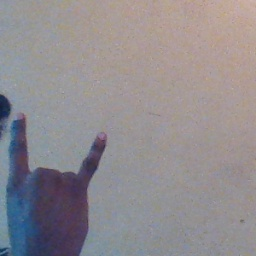V: (4, 109, 109, 256)
